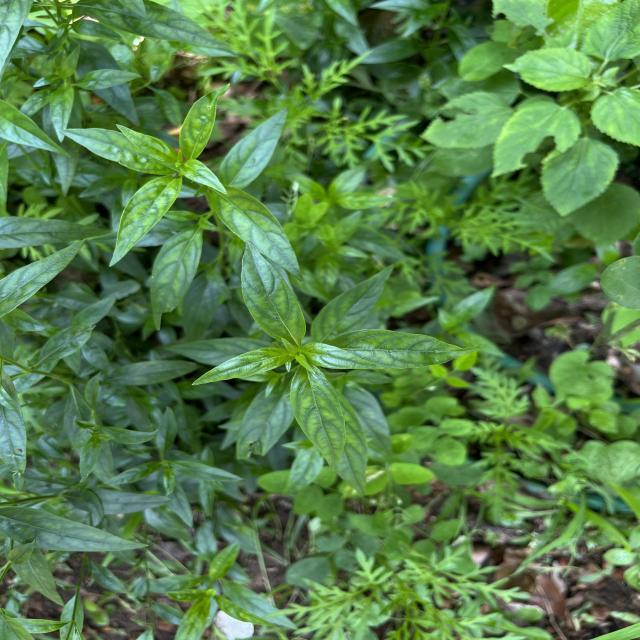Andrographis paniculata: (210, 185, 306, 282), (104, 175, 186, 268), (238, 239, 308, 343), (310, 258, 394, 342), (333, 328, 484, 371), (289, 366, 348, 473), (148, 224, 207, 330), (218, 106, 290, 190), (58, 126, 170, 178), (233, 378, 295, 464), (190, 346, 296, 388), (178, 82, 232, 160)
